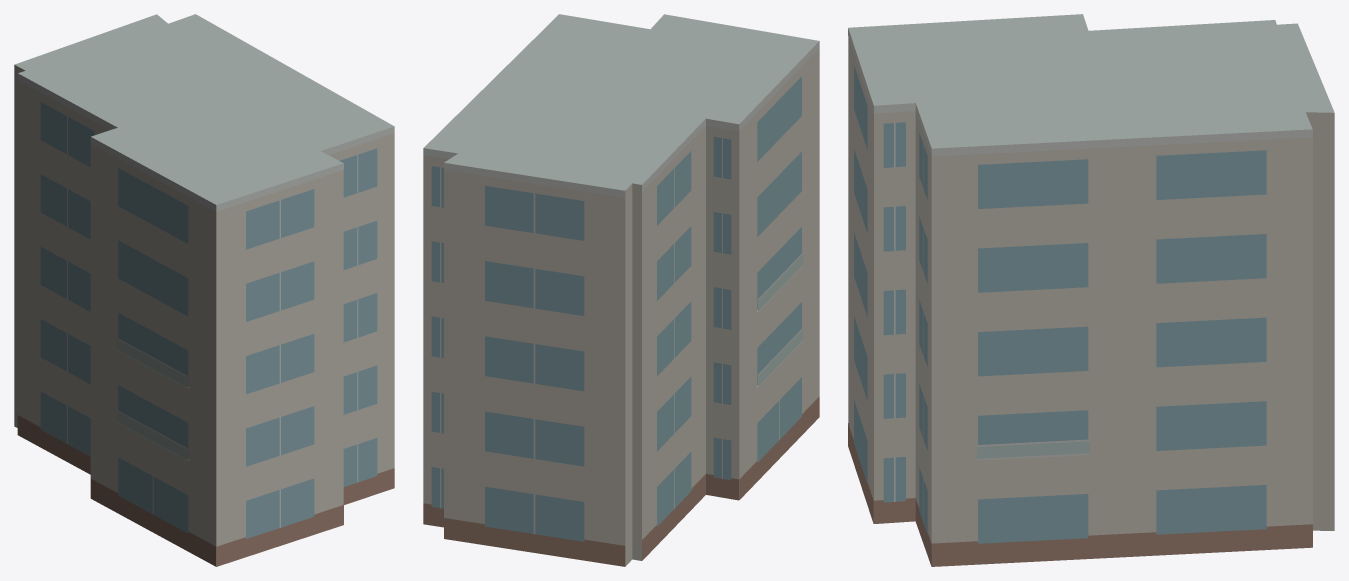
Rendered from survey-upis-32699000.glb.
The picture shows the model from 3 angles, left to right: view 1: azimuth 30°, elevation 25°; view 2: azimuth 150°, elevation 25°; view 3: azimuth 270°, elevation 25°; orthographic projection. The views are drawn at different scales.
Visible parts, largest first — view 1: survey-upis-32699000.tmp; view 2: survey-upis-32699000.tmp; view 3: survey-upis-32699000.tmp.
Part boxes in pixels (left/top/right/bottom): survey-upis-32699000.tmp: left=14, top=14, right=394, bottom=566; survey-upis-32699000.tmp: left=423, top=14, right=819, bottom=566; survey-upis-32699000.tmp: left=848, top=14, right=1334, bottom=566.
Bounding box in the file's own units: 8.98 × 13 × 13.72.
